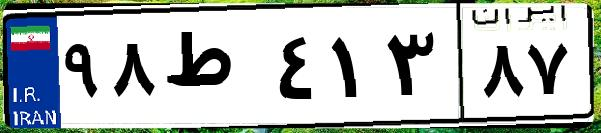1: (330, 28, 385, 110)
3: (385, 28, 445, 110)
4: (270, 28, 330, 110)
7: (525, 38, 570, 115)
8: (475, 38, 525, 113), (110, 28, 158, 98)
9: (57, 26, 110, 100)
ط: (158, 20, 270, 120)
